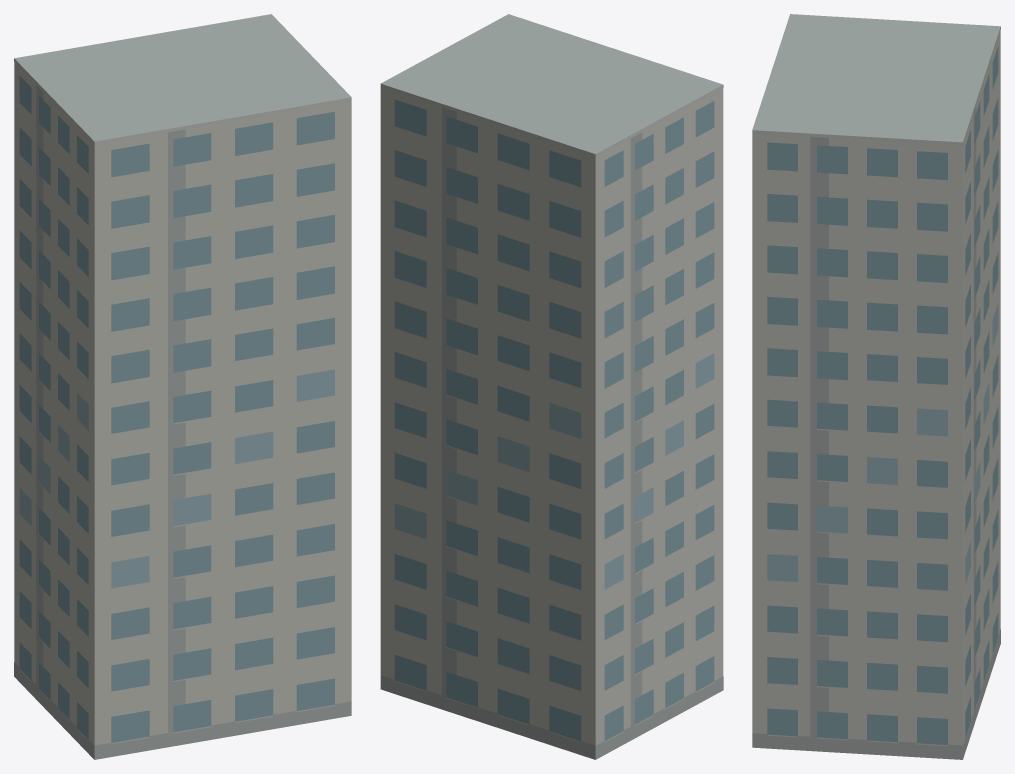
Rendered from residential-30e0e64e-28a9-43f2-b29c-137bed538aab.glb.
3 views of the same model, side by side, from view 1: azimuth 30°, elevation 25°; view 2: azimuth 150°, elevation 25°; view 3: azimuth 270°, elevation 25° (orthographic). The views are drawn at different scales.
Parts seen in each view (by area): view 1: residential-30e0e64e-28a9-43f2-b29c-137bed538aab.tmp; view 2: residential-30e0e64e-28a9-43f2-b29c-137bed538aab.tmp; view 3: residential-30e0e64e-28a9-43f2-b29c-137bed538aab.tmp.
Boxes of the visible parts, left/top/right/bottom form: residential-30e0e64e-28a9-43f2-b29c-137bed538aab.tmp: left=14, top=14, right=351, bottom=759; residential-30e0e64e-28a9-43f2-b29c-137bed538aab.tmp: left=380, top=14, right=723, bottom=759; residential-30e0e64e-28a9-43f2-b29c-137bed538aab.tmp: left=752, top=14, right=1000, bottom=759.
Size of the model in its own units: 19.19 by 43 by 15.7.
